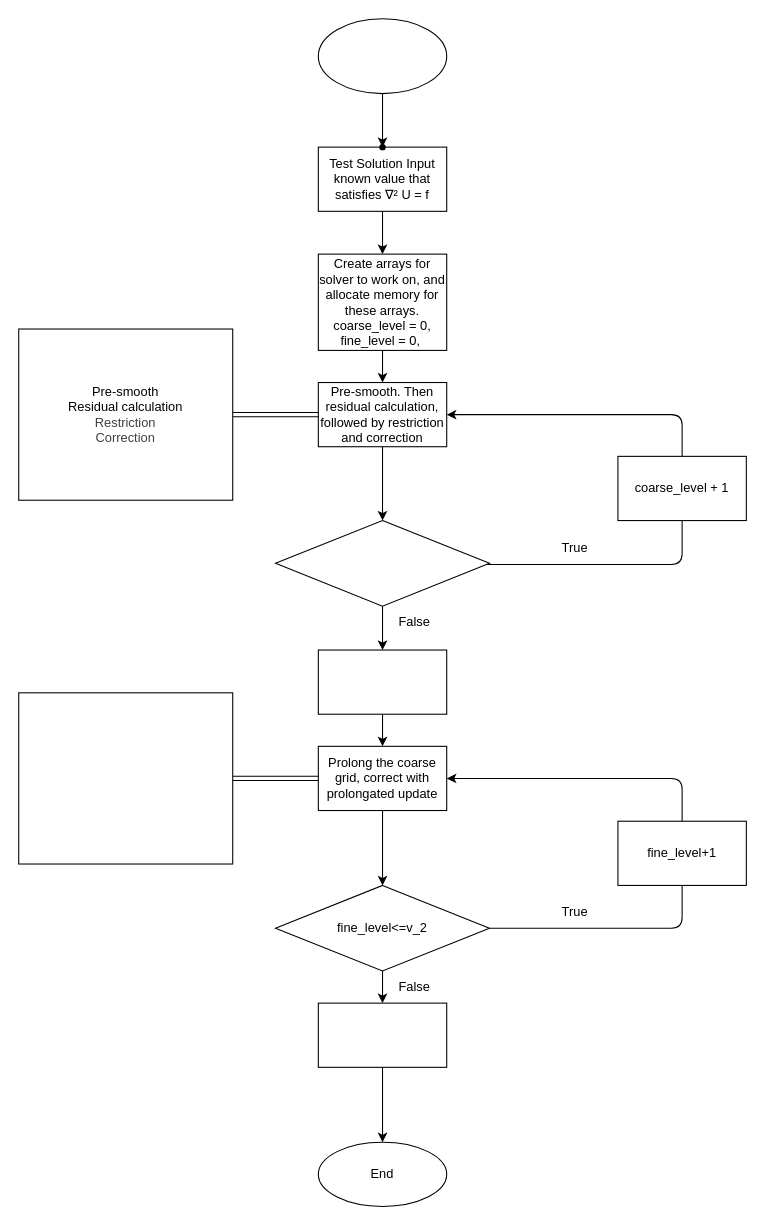
The diagram is 765 pixels wide and 1225 high, and some of its shapes have lost their labels. Each missing label, with the centre of its shape:
coarse_level<=v_1: point 382,562
Direct solver on coarse grid: point 382,681
Prolong Coarse grid Correct with update: point 125,778
Solution for initial grid generated: point 382,1034
Start v_1 = 2, v_2 =2: point 382,56
